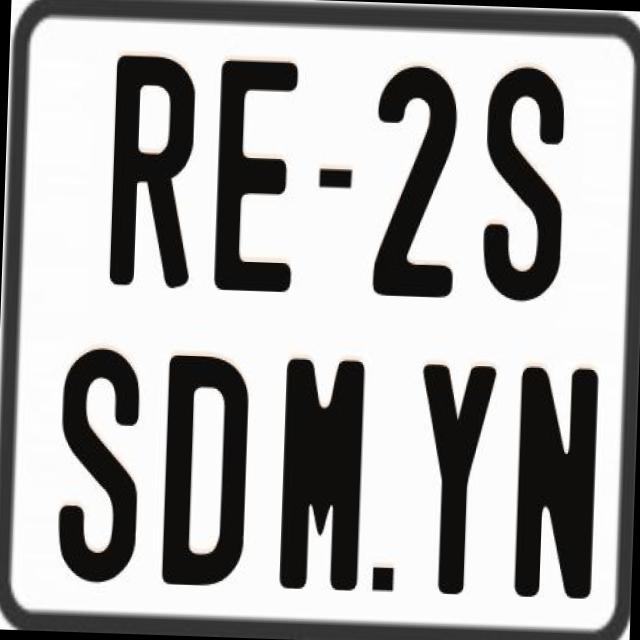2: (368, 64, 462, 299)
D: (160, 349, 248, 582)
E: (210, 54, 298, 296)
M: (277, 357, 367, 593)
N: (513, 366, 601, 604)
R: (108, 54, 196, 286)
S: (477, 61, 565, 302), (56, 343, 142, 589)
Y: (416, 364, 498, 603)
